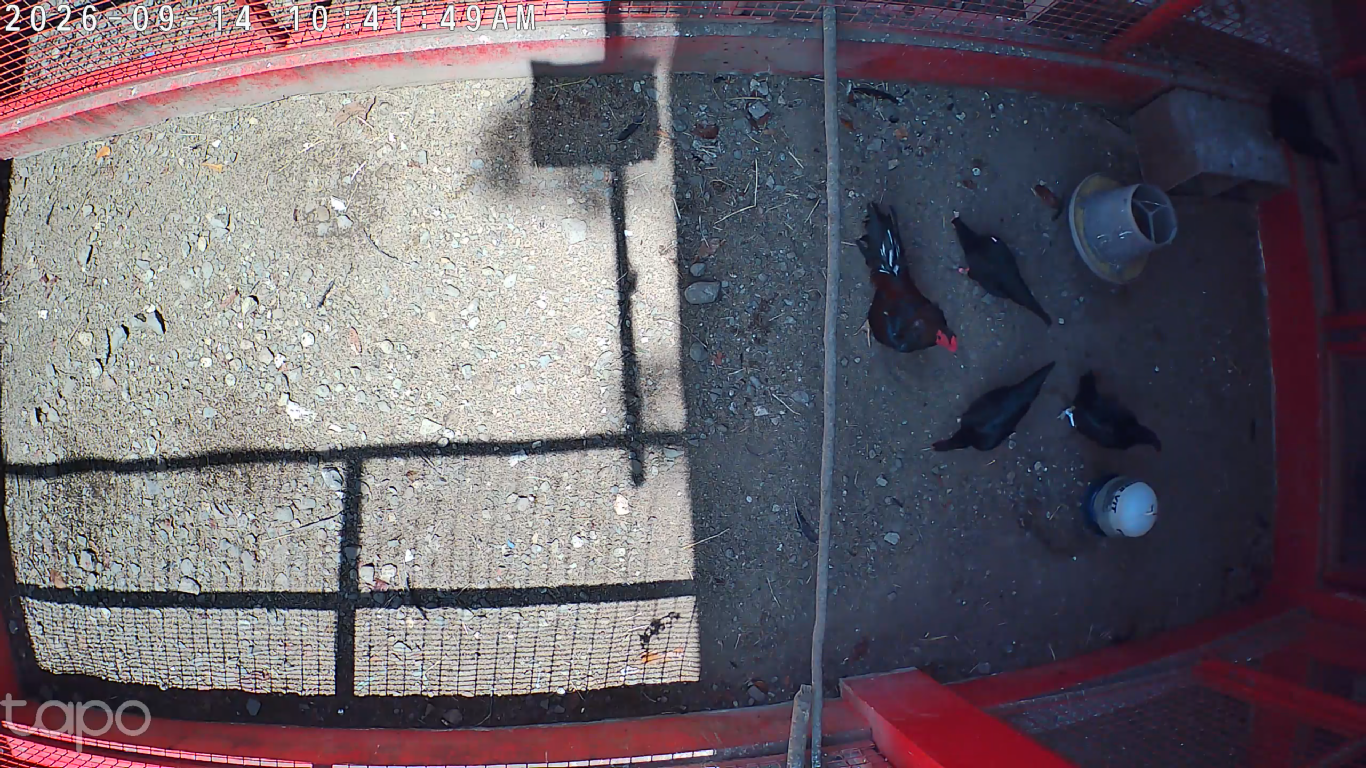Chicken: (930, 357, 1057, 457), (947, 214, 1056, 329), (1054, 370, 1166, 457)
Feeder: (1067, 169, 1181, 287)
Rooster: (846, 195, 959, 359)
